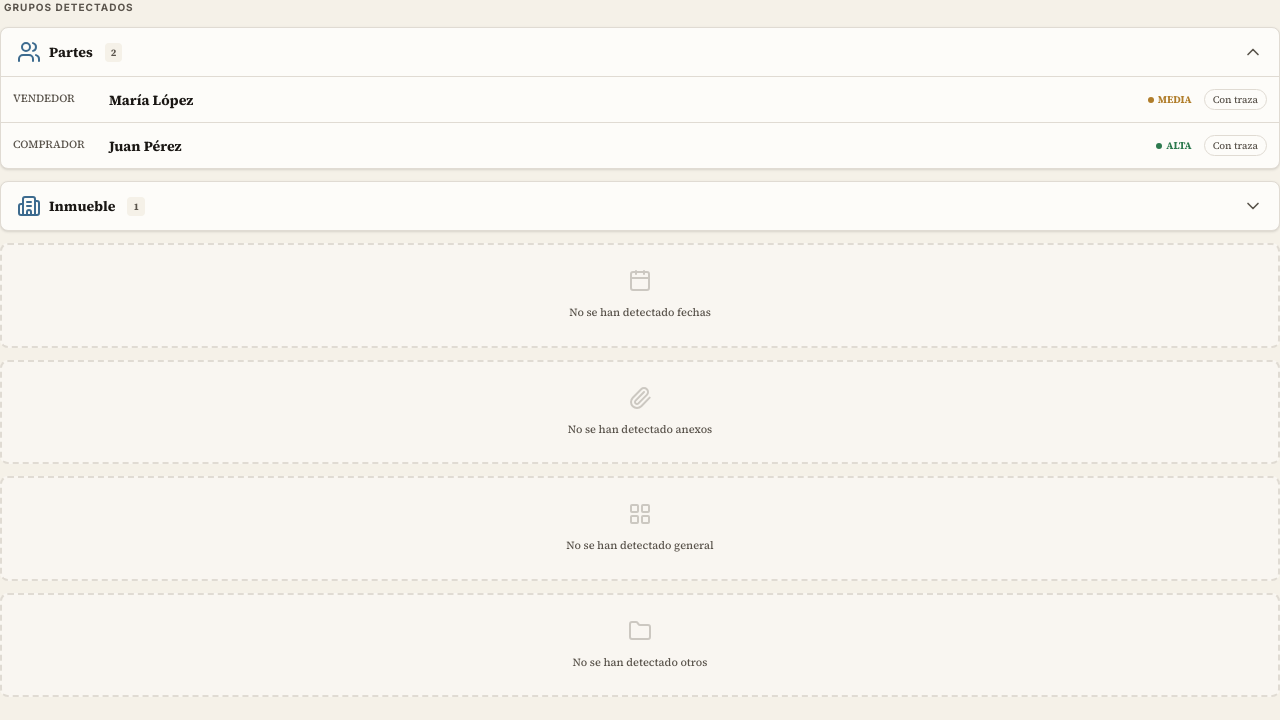
it: EntityInspector › opens edit modal when entity row is clicked
The image size is (1280, 720).
Step 1. Click the button "COMPRADOR Juan Pérez ALTA Con traza" → (49,145), box [1,123,1279,168]
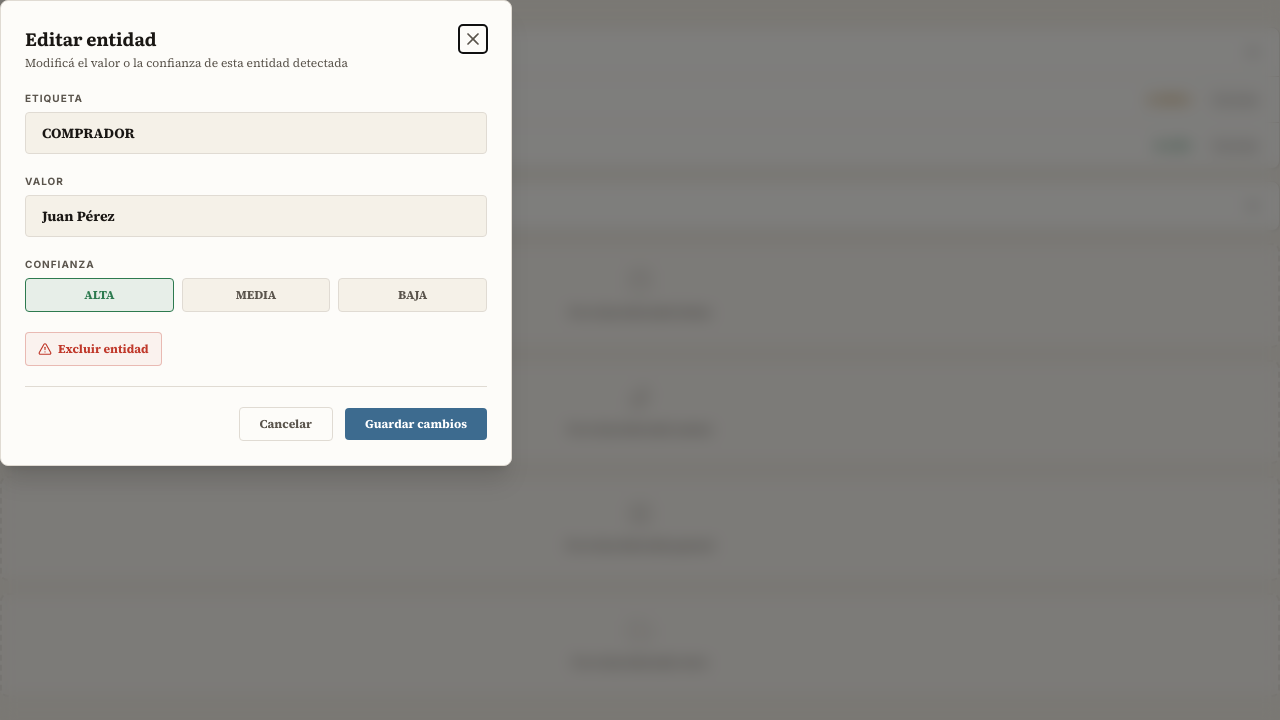
Expected: the heading "Editar entidad" is shown, [25,25,157,52]
Expected: the field showing "Juan Pérez" is shown, [25,195,487,237]
